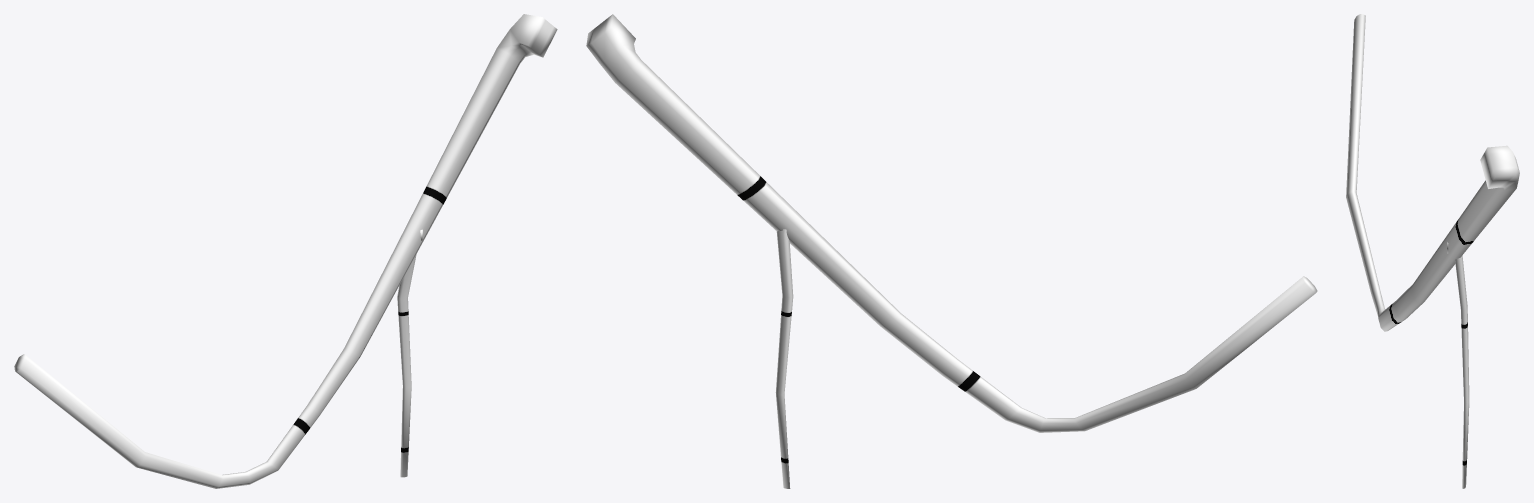
File: Ranke_v3.fbx
3 renders of one model, left to right at view 1: azimuth 30°, elevation 25°; view 2: azimuth 150°, elevation 25°; view 3: azimuth 270°, elevation 25°, orthographic. The views are drawn at different scales.
Parts seen in each view (by area): view 1: Ranke_v3; view 2: Ranke_v3; view 3: Ranke_v3.
Boxes of the visible parts, bbox=[...] form: Ranke_v3: bbox=[14, 14, 557, 488]; Ranke_v3: bbox=[586, 14, 1317, 488]; Ranke_v3: bbox=[1346, 14, 1519, 488].
Bounding box in the file's own units: 1579 × 1023 × 390.
